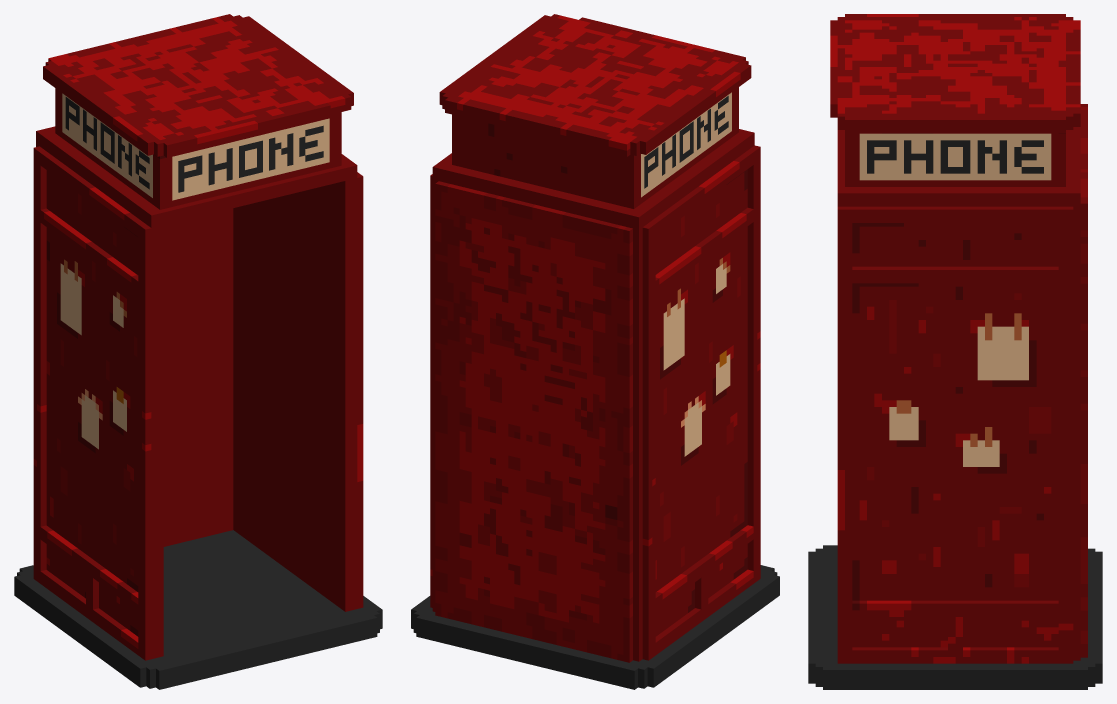
The model's file is others2 - Kopya-3.obj.
3 renders of one model, left to right at view 1: azimuth 30°, elevation 25°; view 2: azimuth 150°, elevation 25°; view 3: azimuth 270°, elevation 25°, orthographic. The views are drawn at different scales.
Size of the model in its own units: 4 by 8.4 by 4.
1 material, 1 textured.
